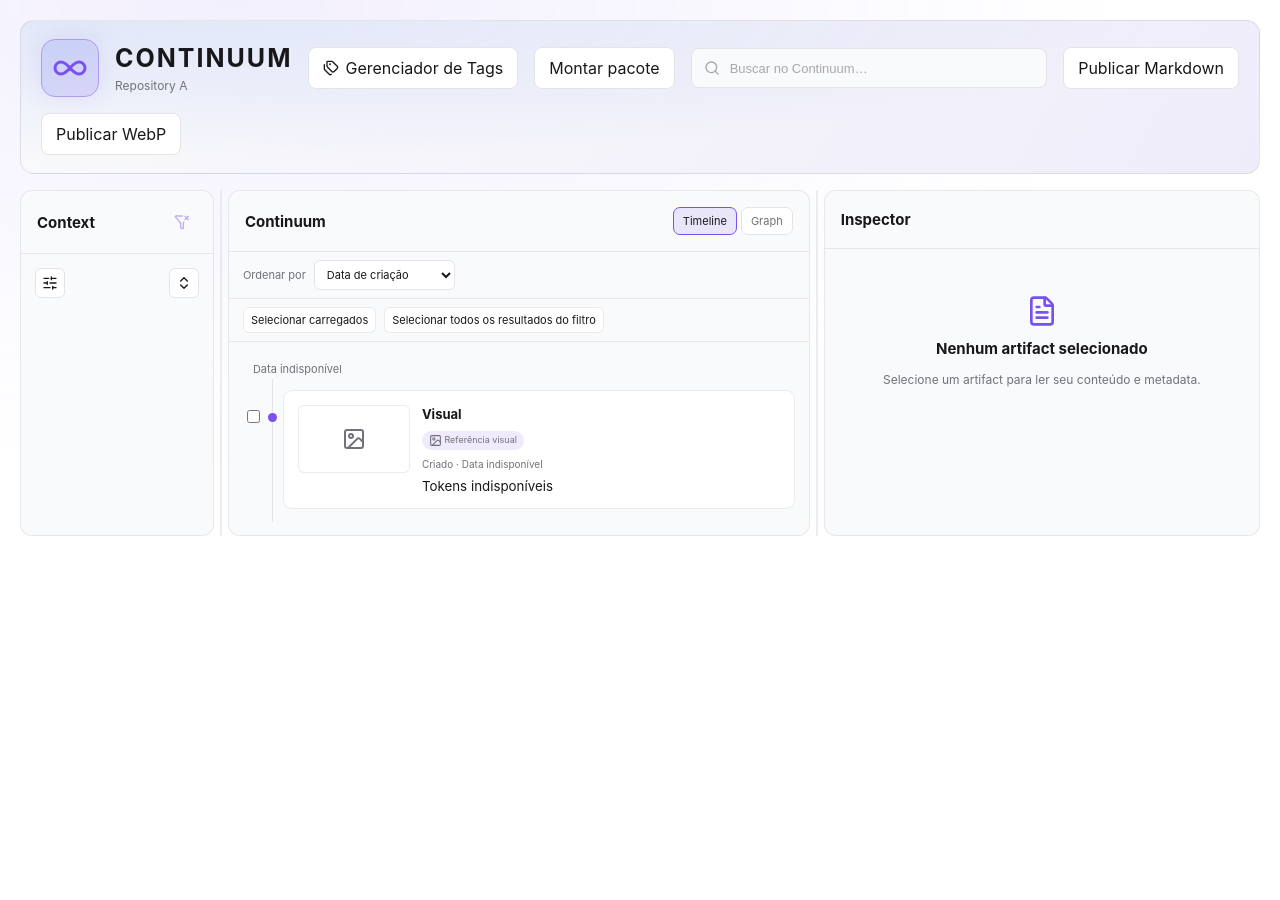
Test: discards late projections on repository switch and leaves selection usable after a thumbnail error
Check: the text "Visual" is shown, box [422,405,462,423]
Click the button "Visual Referência visual": (354, 439) [283,390,795,509]
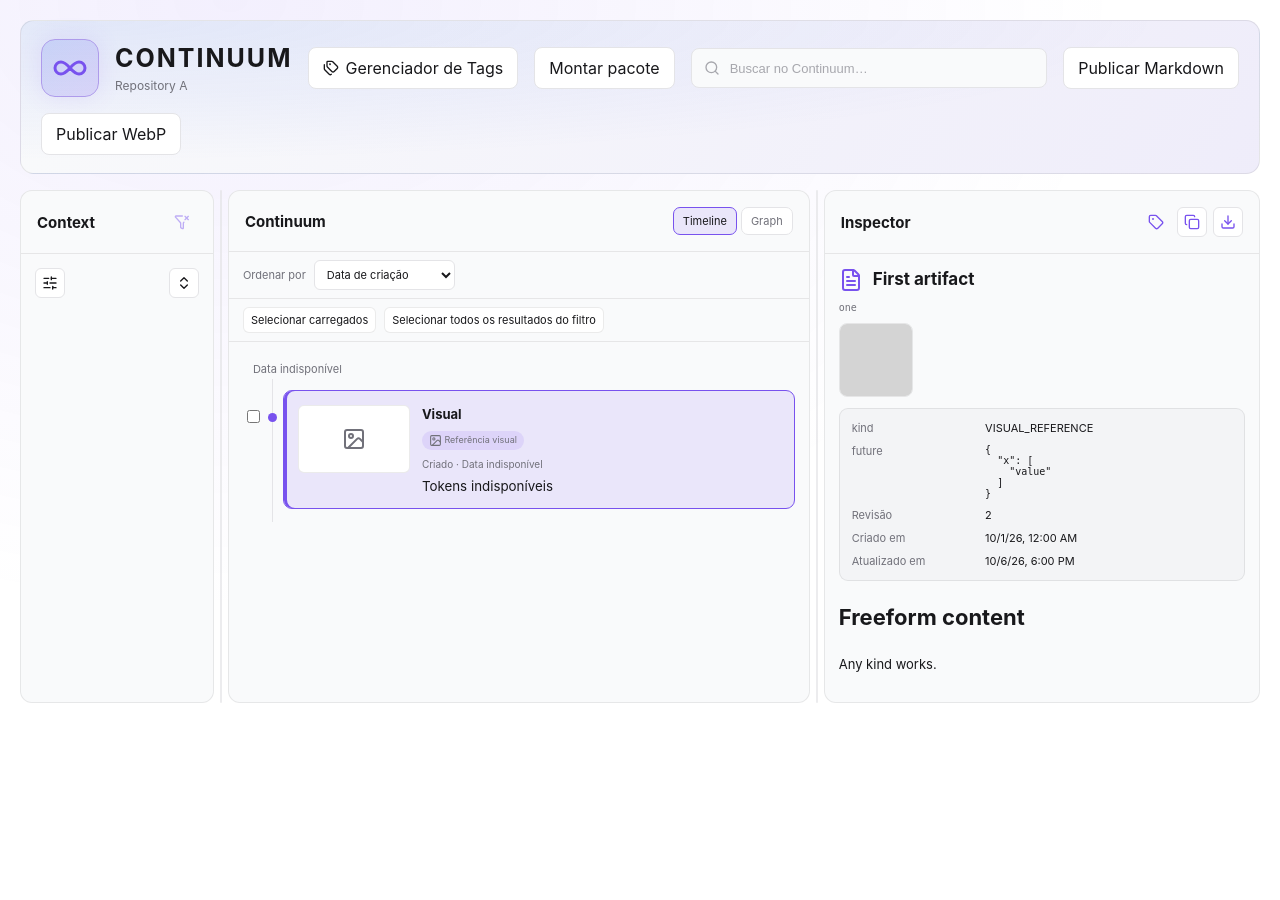
Check: the heading "Freeform content" is shown, box [839,604,1025,630]
